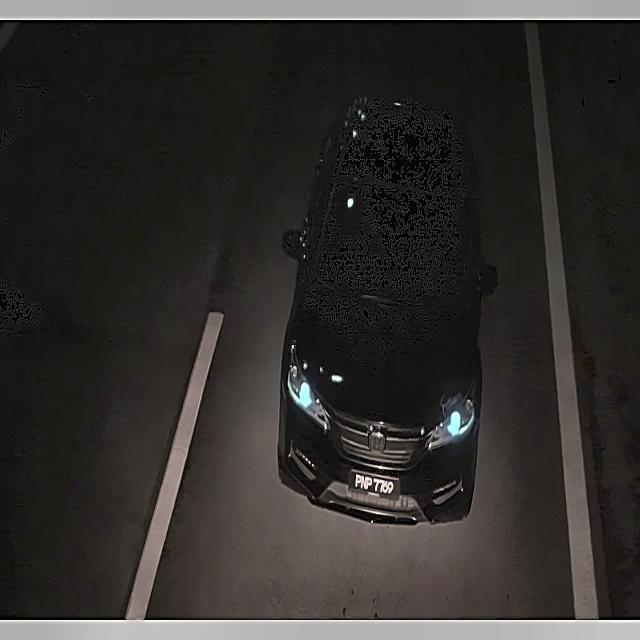car: (348, 461, 403, 506)
